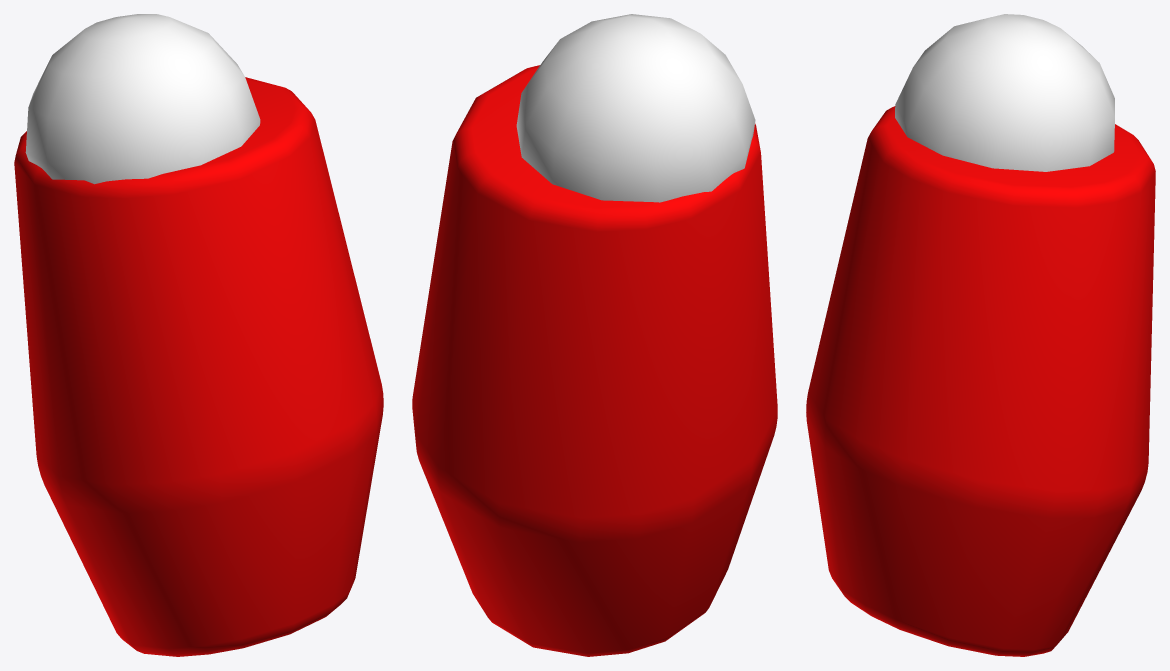
The model's file is Treble_UpperLeg.fbx.
3 views of the same model, side by side, from view 1: azimuth 30°, elevation 25°; view 2: azimuth 150°, elevation 25°; view 3: azimuth 270°, elevation 25° (orthographic). The views are drawn at different scales.
Parts seen in each view (by area): view 1: Treble_UpperLeg; view 2: Treble_UpperLeg; view 3: Treble_UpperLeg.
Part boxes in pixels (x1,y1,x2,y2): Treble_UpperLeg: (14,14,383,656); Treble_UpperLeg: (412,14,777,656); Treble_UpperLeg: (806,14,1155,656).
Size of the model in its own units: 18.48 by 34.71 by 18.81.
